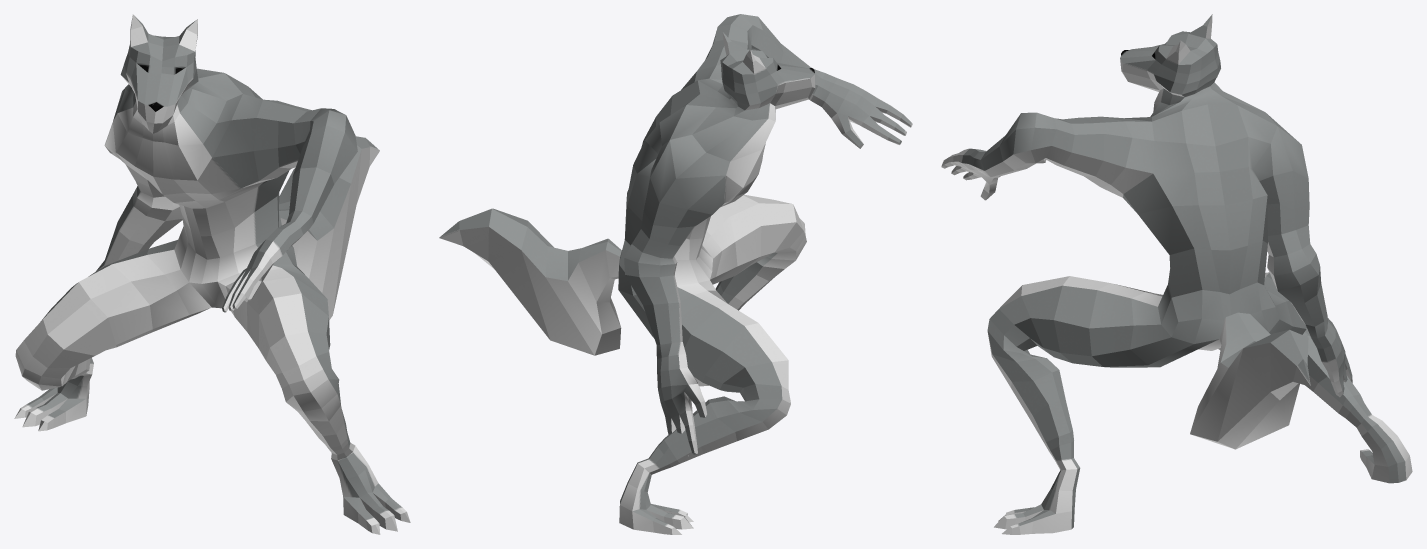
File: WolfAttack(20).obj
3 renders of one model, left to right at view 1: azimuth 30°, elevation 25°; view 2: azimuth 150°, elevation 25°; view 3: azimuth 270°, elevation 25°, orthographic. The views are drawn at different scales.
Visible parts, largest first — view 1: Box001; view 2: Box001; view 3: Box001.
Boxes of the visible parts, bbox=[...] form: Box001: bbox=[14, 14, 410, 534]; Box001: bbox=[439, 14, 912, 534]; Box001: bbox=[941, 14, 1412, 534].
Size of the model in its own units: 98.58 by 118 by 113.
